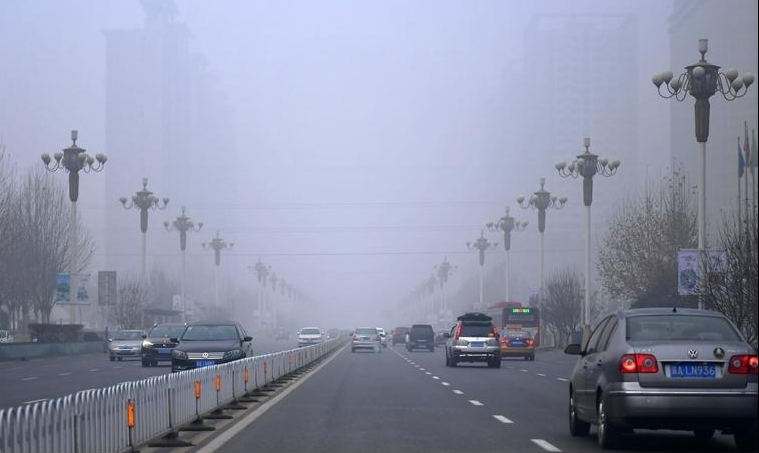bus: (482, 302, 542, 353)
car: (563, 297, 759, 453), (169, 320, 253, 379), (445, 312, 500, 368), (143, 320, 193, 364), (496, 325, 538, 361), (108, 330, 152, 361), (406, 324, 436, 353), (349, 325, 382, 351), (294, 327, 321, 346), (362, 328, 389, 347), (390, 326, 414, 347), (431, 330, 455, 349), (320, 328, 340, 343)
